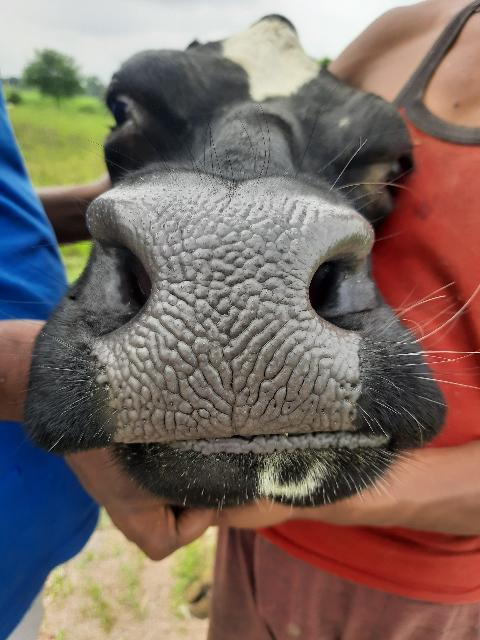Muzzle: (114, 184, 346, 432)
